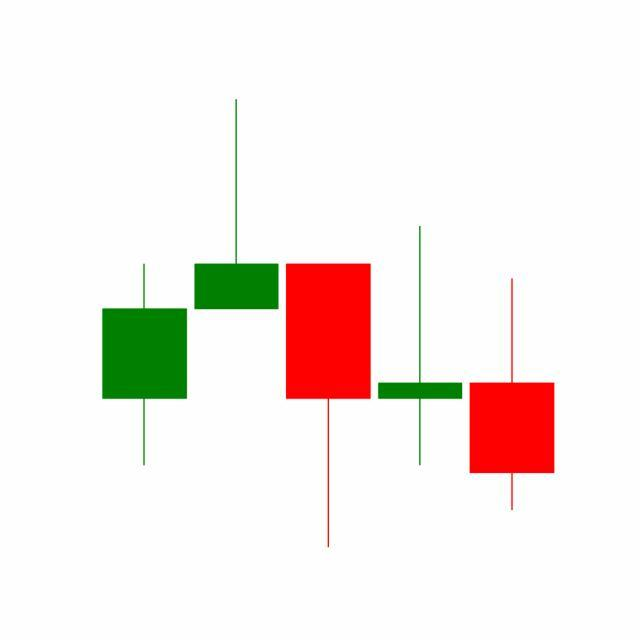Spinning Top: (374, 224, 468, 469)
